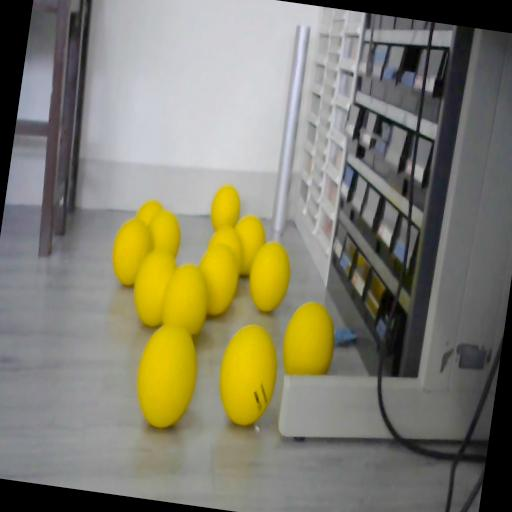FUEL: (129, 318, 203, 430), (212, 318, 284, 428), (278, 298, 339, 382), (128, 244, 180, 328), (191, 238, 244, 319), (244, 238, 296, 314), (108, 215, 155, 288), (228, 212, 269, 278), (144, 207, 184, 260), (208, 183, 244, 232)
